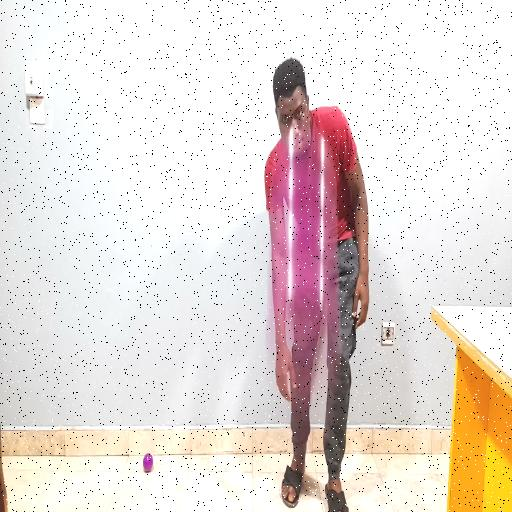plastic-ball: (270, 135, 345, 394)
